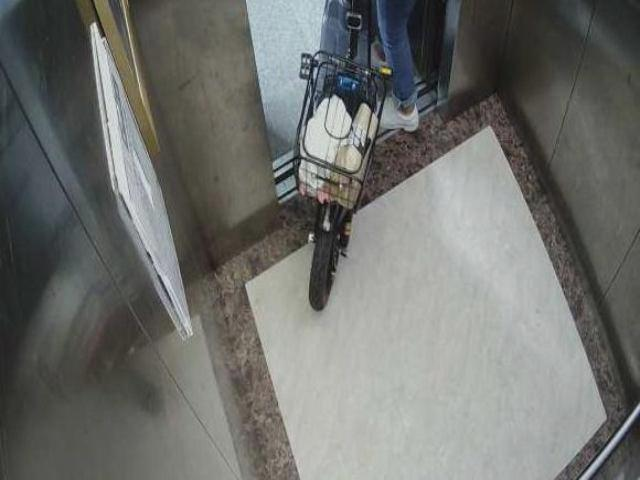emotor: (271, 9, 402, 303)
